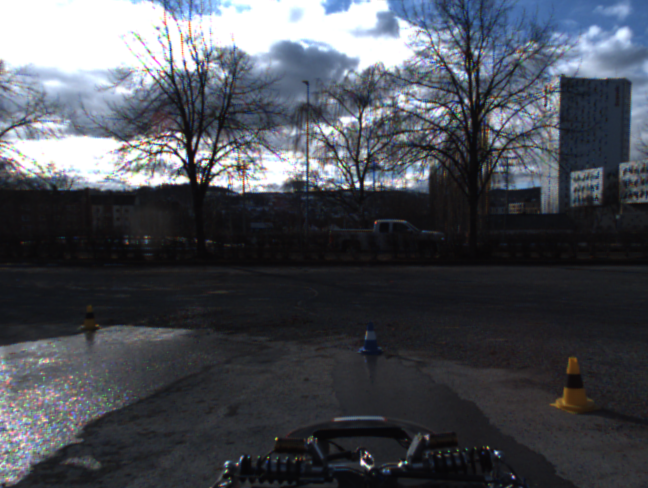cone-small-blue: (355, 323, 385, 356)
cone-small-yellow: (549, 356, 602, 416), (77, 304, 102, 330)
